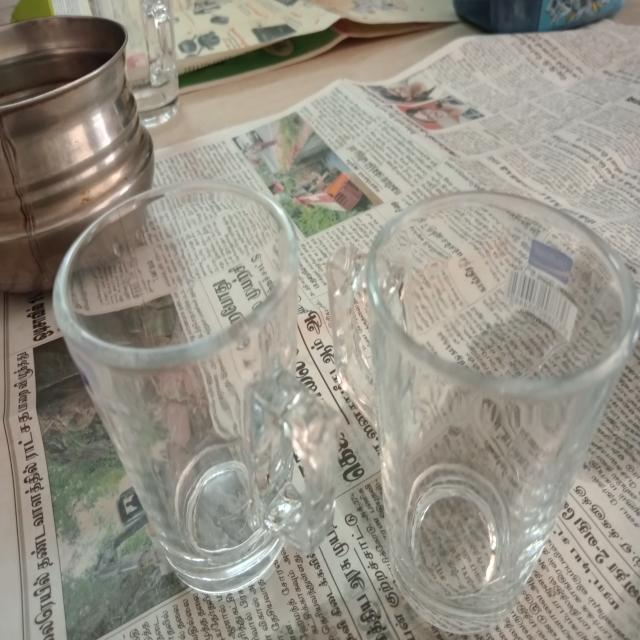glass-VX4N: (328, 191, 640, 640), (52, 182, 340, 594)
